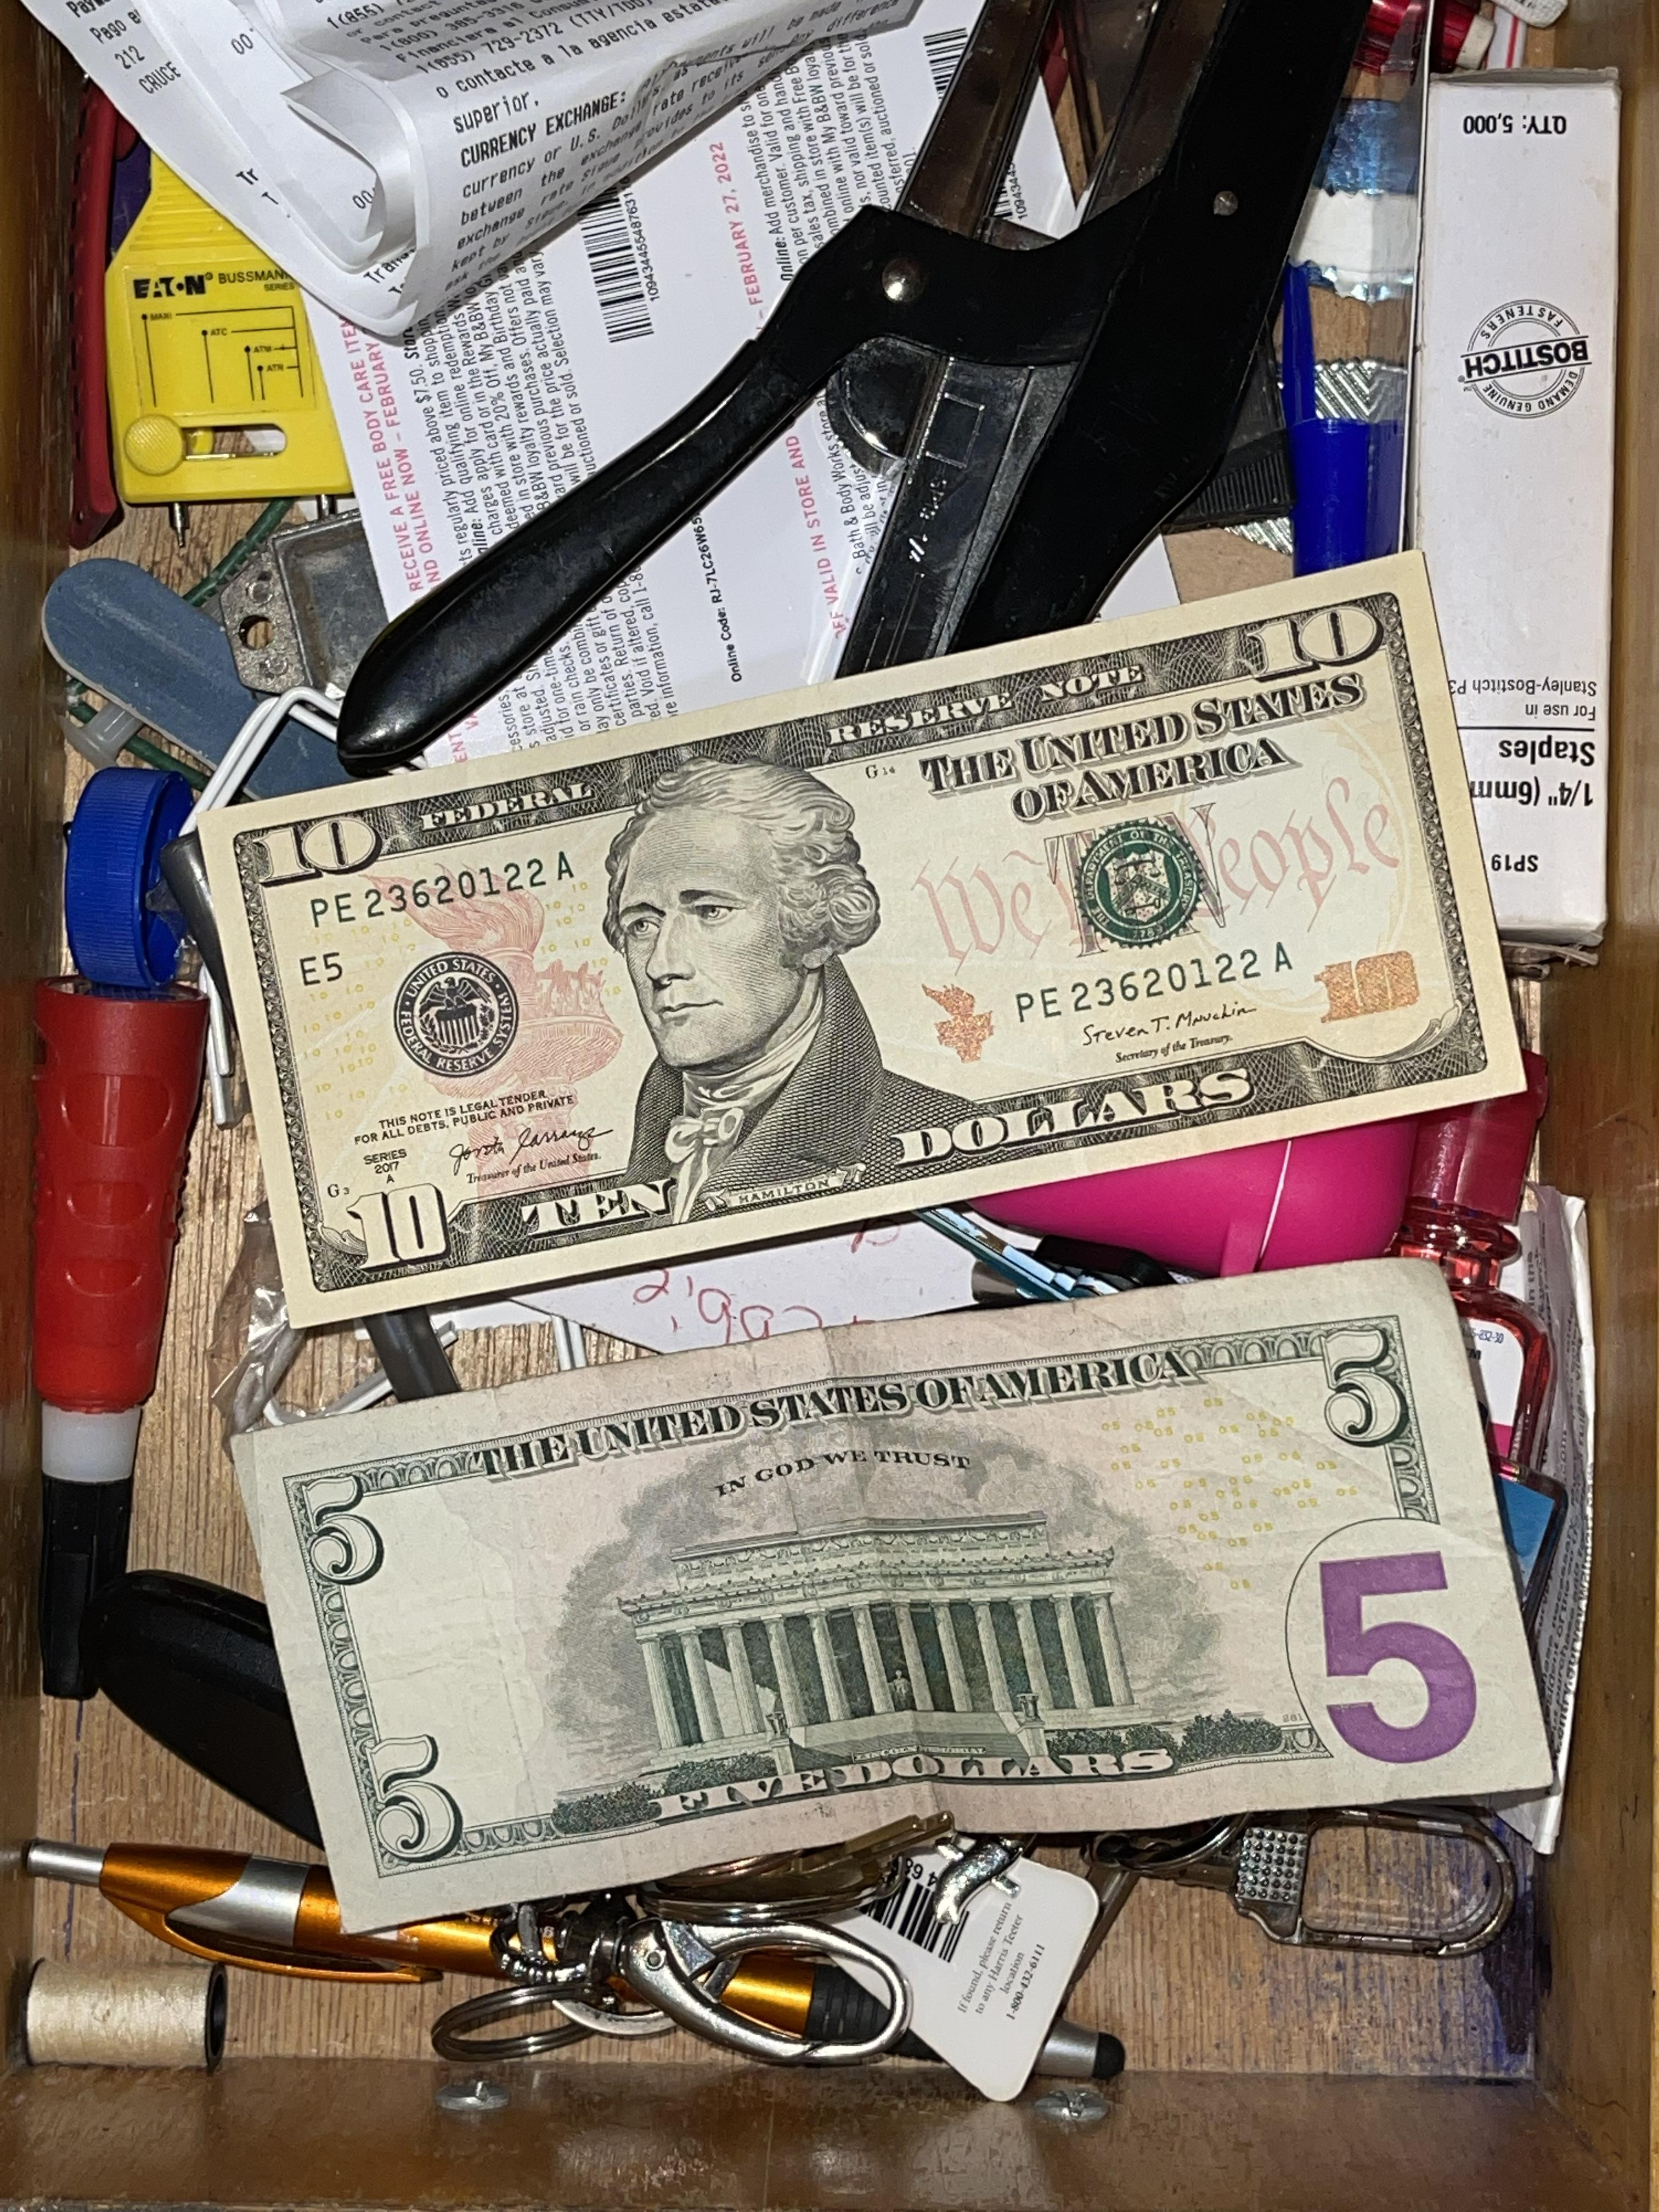FiveBill: (227, 1252, 1560, 1940)
TenBill: (197, 545, 1530, 1334)
